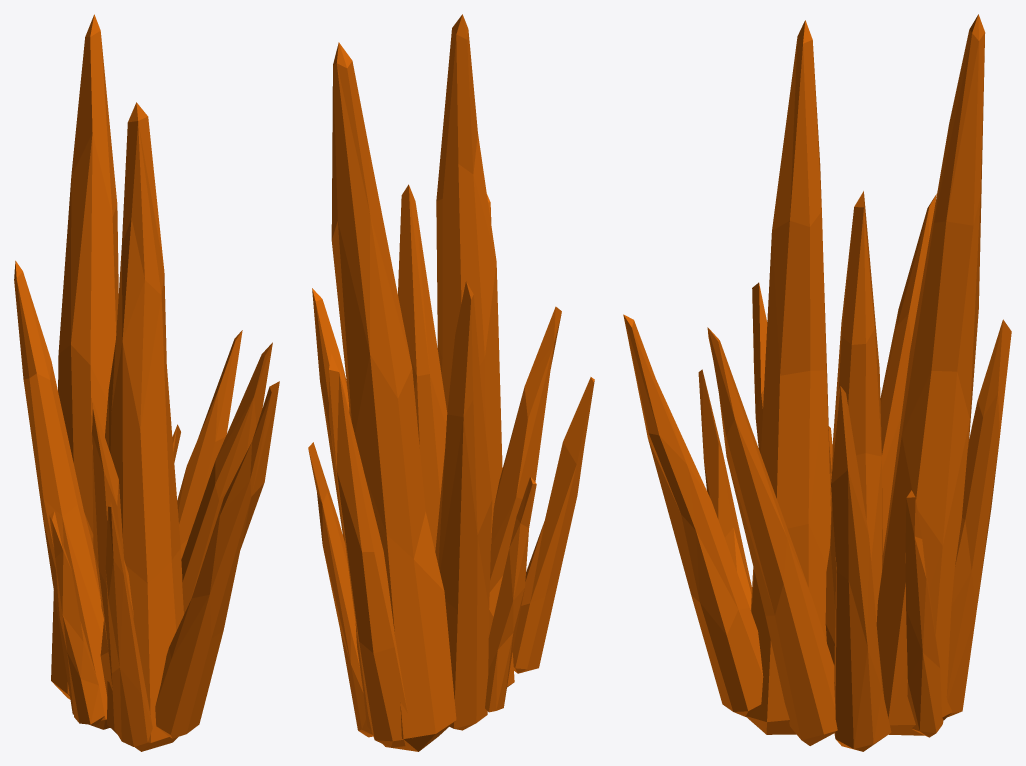
The model's file is Coral5.fbx.
3 views of the same model, side by side, from view 1: azimuth 30°, elevation 25°; view 2: azimuth 150°, elevation 25°; view 3: azimuth 270°, elevation 25° (orthographic). The views are drawn at different scales.
Visible parts, largest first — view 1: Coral.005; view 2: Coral.005; view 3: Coral.005.
Part boxes in pixels (bbox=[...]): Coral.005: bbox=[14, 14, 279, 751]; Coral.005: bbox=[308, 14, 594, 751]; Coral.005: bbox=[623, 14, 1011, 751].
Size of the model in its own units: 21.48 by 68.1 by 32.71.
